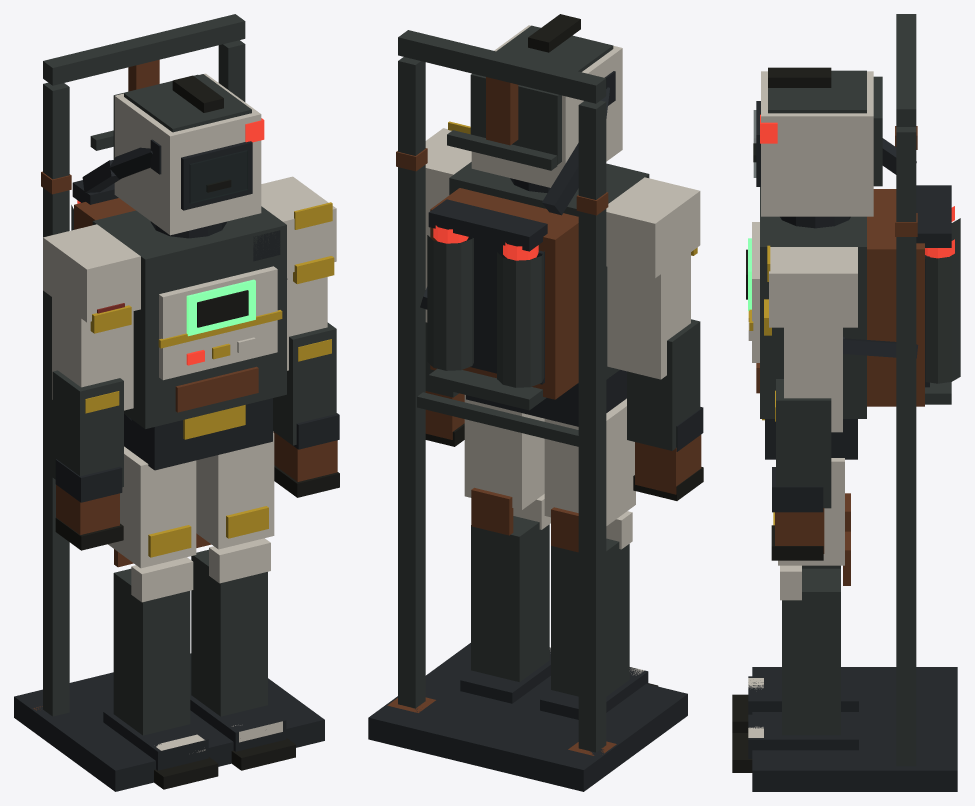
File: suit_rack.glb
3 views of the same model, side by side, from view 1: azimuth 30°, elevation 25°; view 2: azimuth 150°, elevation 25°; view 3: azimuth 270°, elevation 25° (orthographic). The views are drawn at different scales.
Visible parts, largest first — view 1: suit_rack; view 2: suit_rack; view 3: suit_rack.
Part boxes in pixels (x1,y1,x2,y2): suit_rack: (14, 14, 339, 791); suit_rack: (368, 14, 703, 791); suit_rack: (732, 14, 960, 791).
Bounding box in the file's own units: 0.766 × 1.89 × 0.5771.
